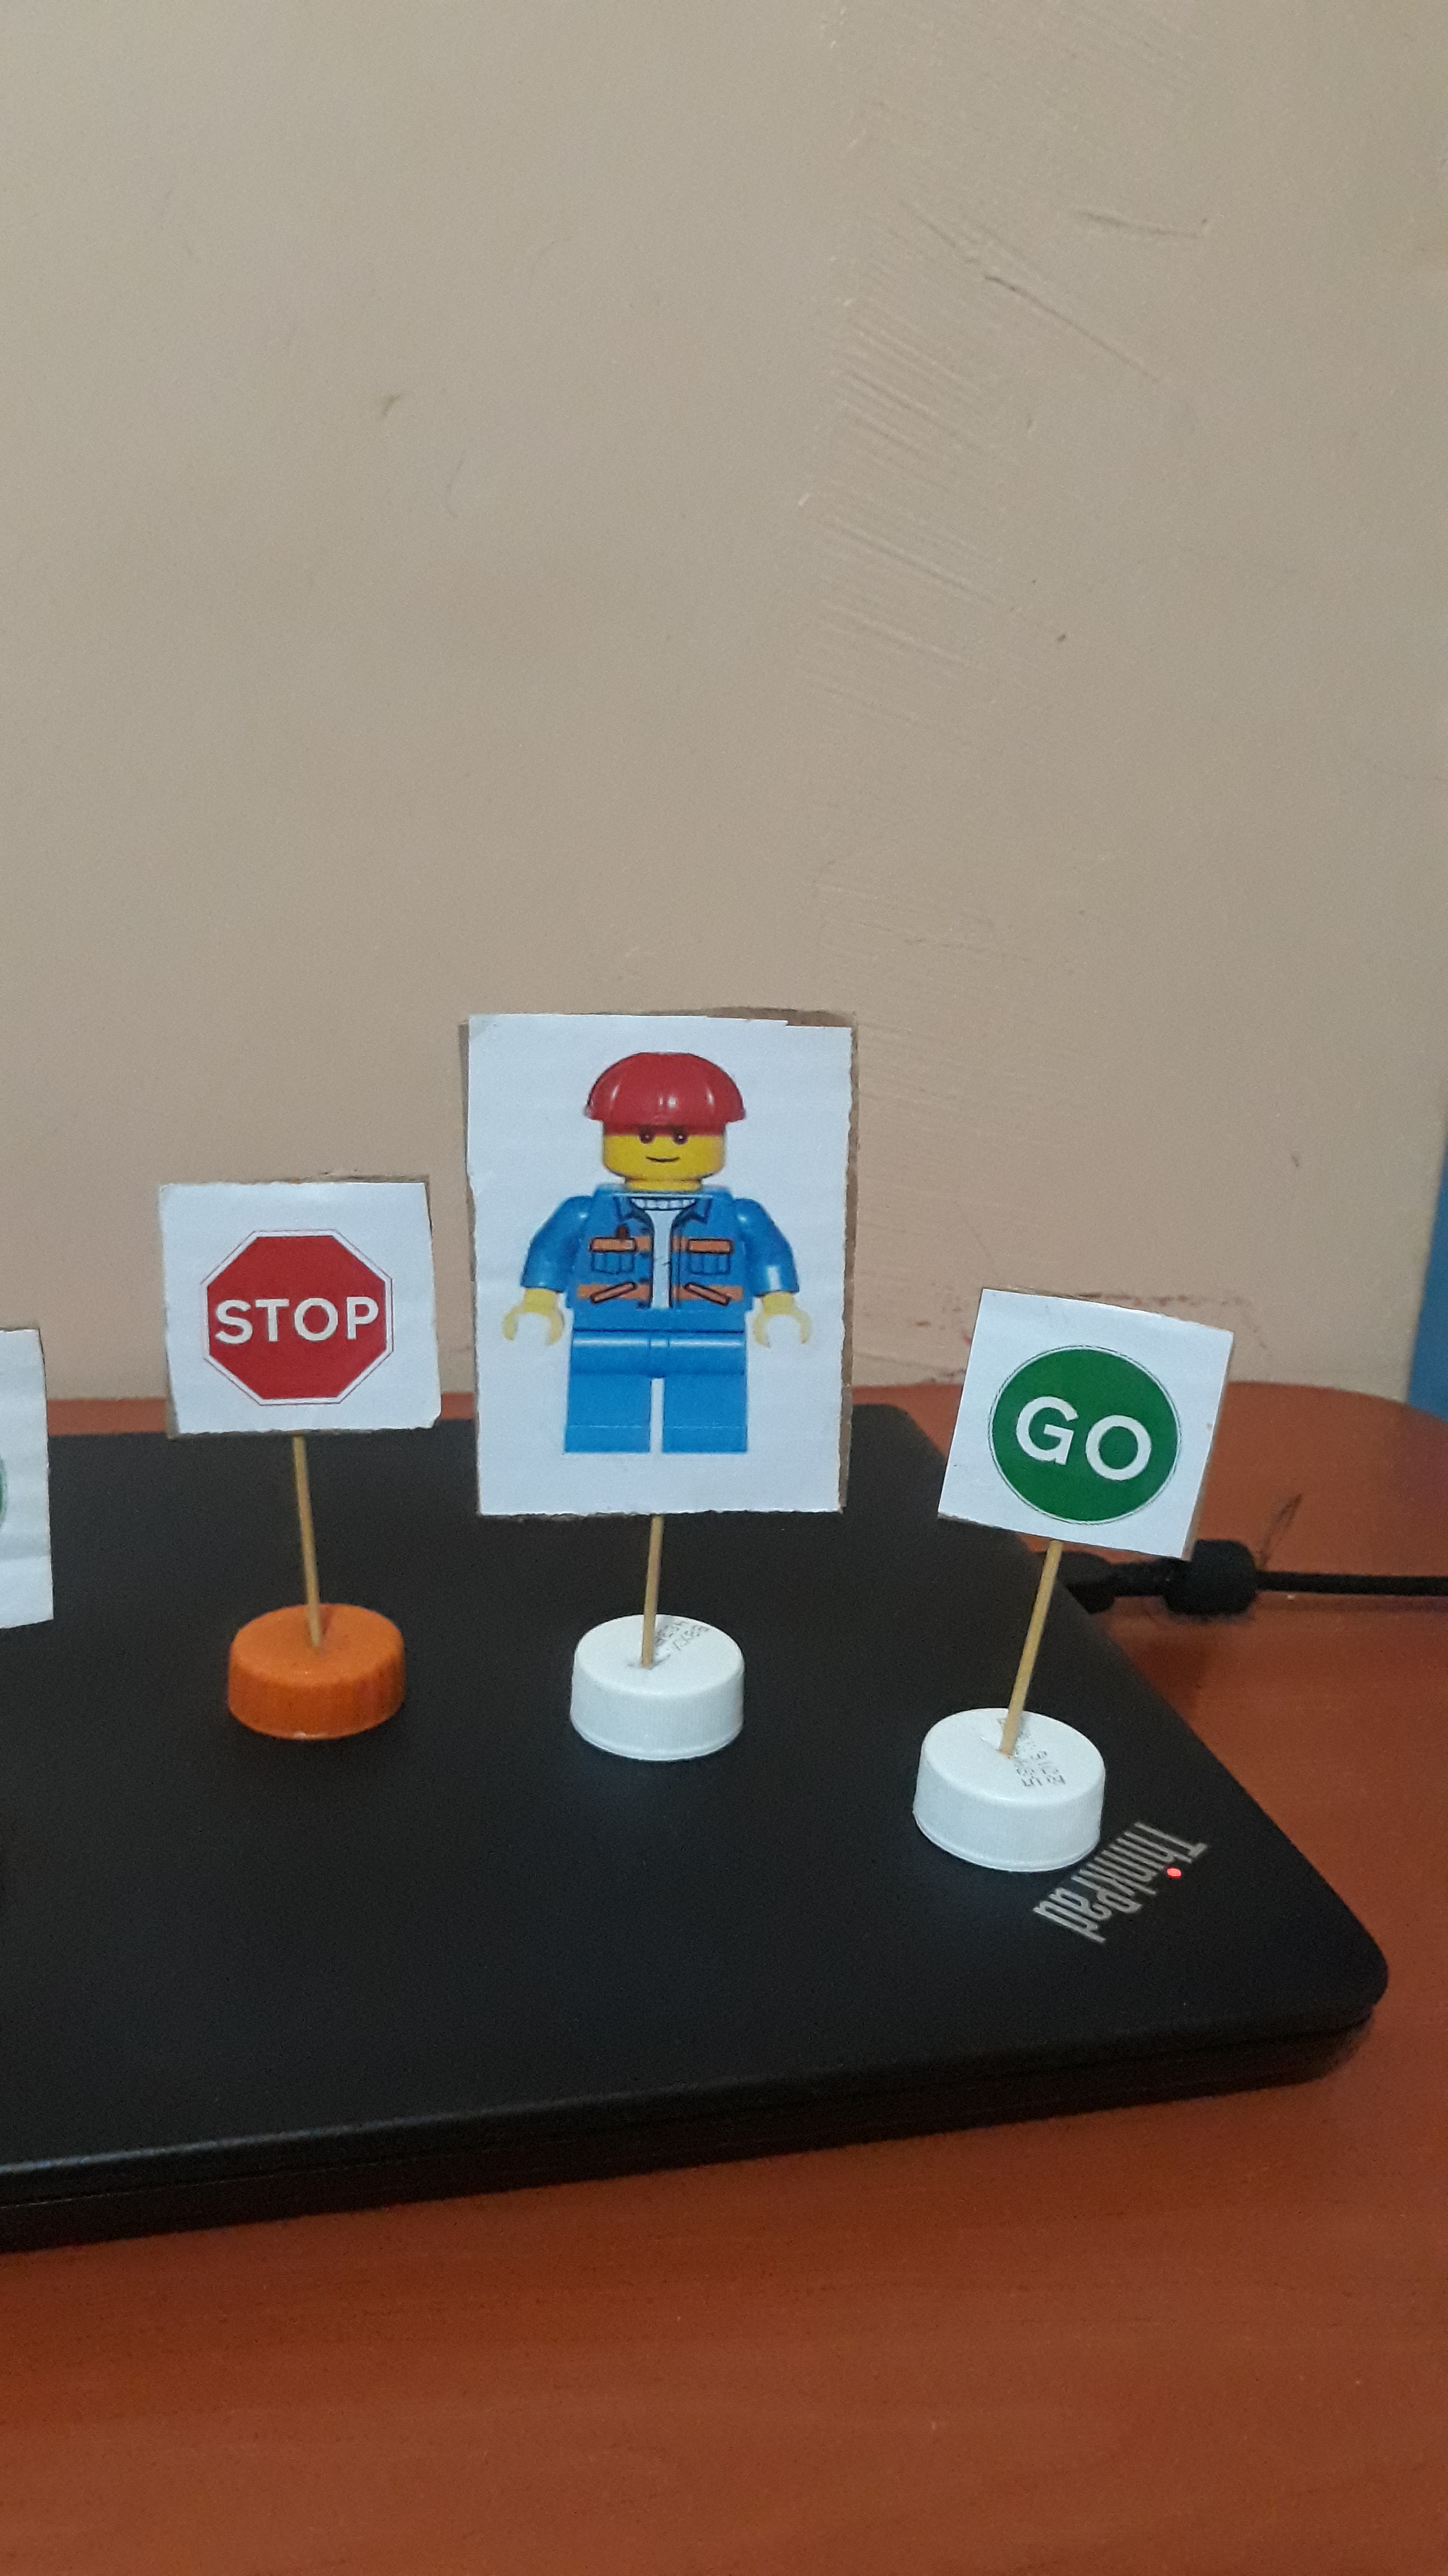go: (974, 1284, 1180, 1549)
pedestrian: (474, 1015, 833, 1495)
stop: (166, 1183, 439, 1420)
